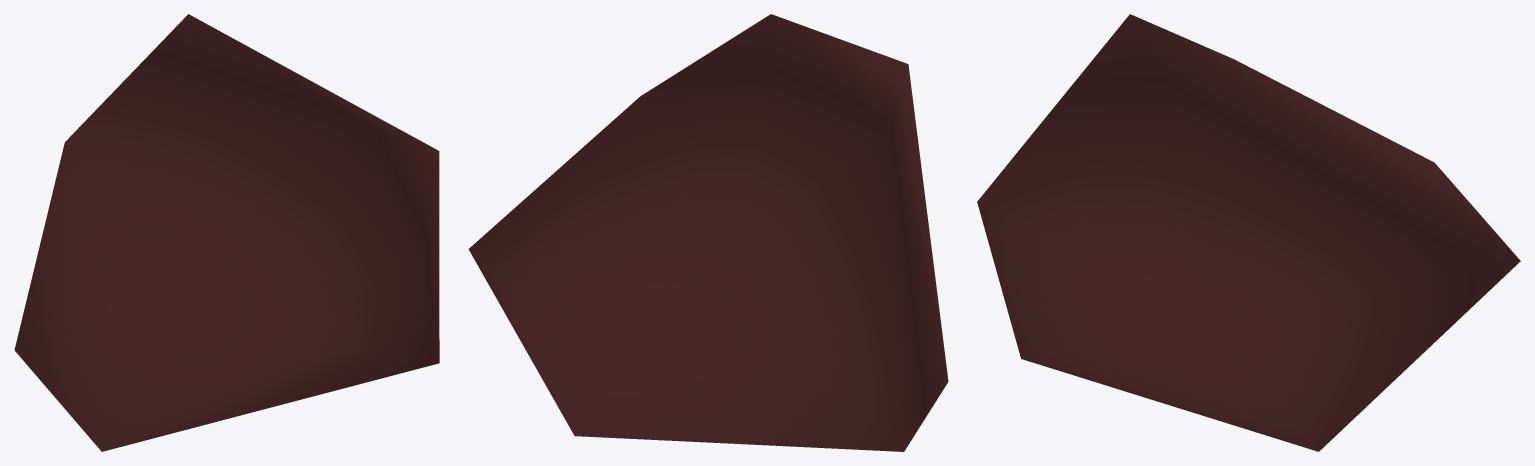
File: debris_rock_c_ink.glb
3 views of the same model, side by side, from view 1: azimuth 30°, elevation 25°; view 2: azimuth 150°, elevation 25°; view 3: azimuth 270°, elevation 25° (orthographic). The views are drawn at different scales.
Parts seen in each view (by area): view 1: debris_rock_c_ink; view 2: debris_rock_c_ink; view 3: debris_rock_c_ink.
Boxes of the visible parts, x1=… form: debris_rock_c_ink: x1=14, y1=14, x2=439, y2=451; debris_rock_c_ink: x1=468, y1=14, x2=948, y2=451; debris_rock_c_ink: x1=977, y1=14, x2=1520, y2=451.
Size of the model in its own units: 1.58 by 1.28 by 1.9.
